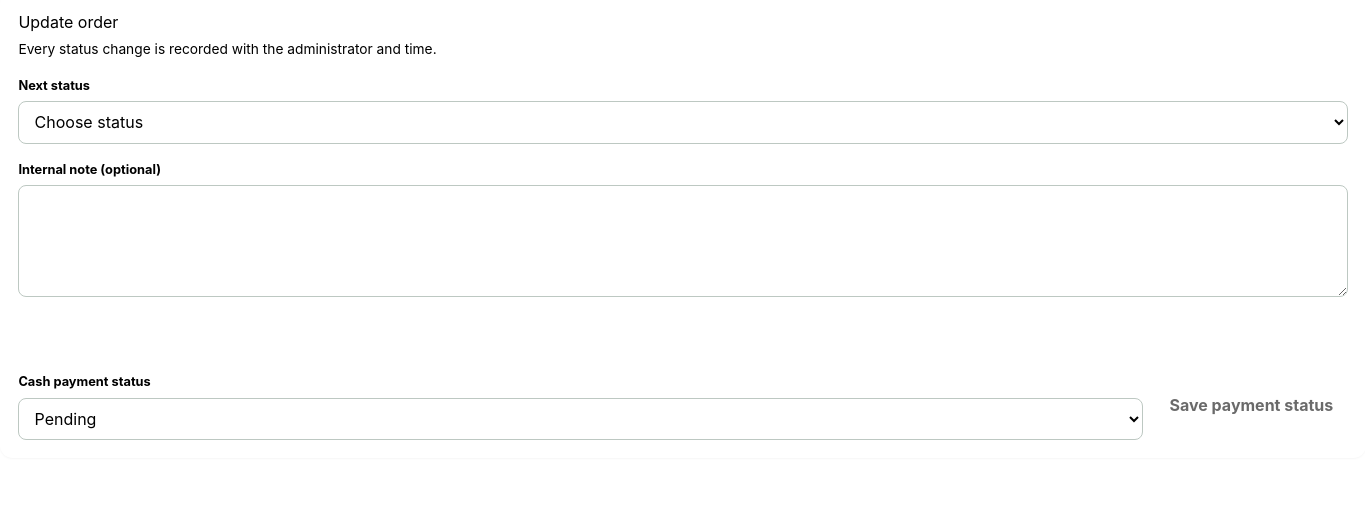
Test: OrderActions payment status › clears loading and leaves retry controls usable after failure
The image size is (1365, 525).
Select "Paid" in the dropdown labelled "Cash payment status": {"x": 581, "y": 419} [18,398,1143,440]
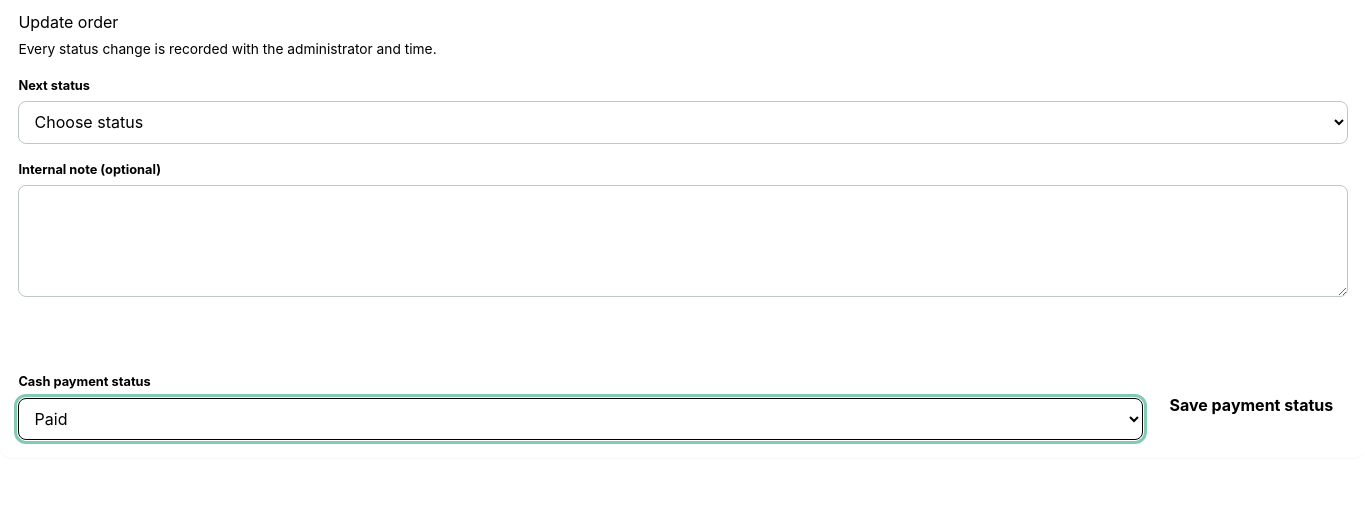
Click the button "Save payment status": {"x": 1251, "y": 406} [1155,385,1348,427]
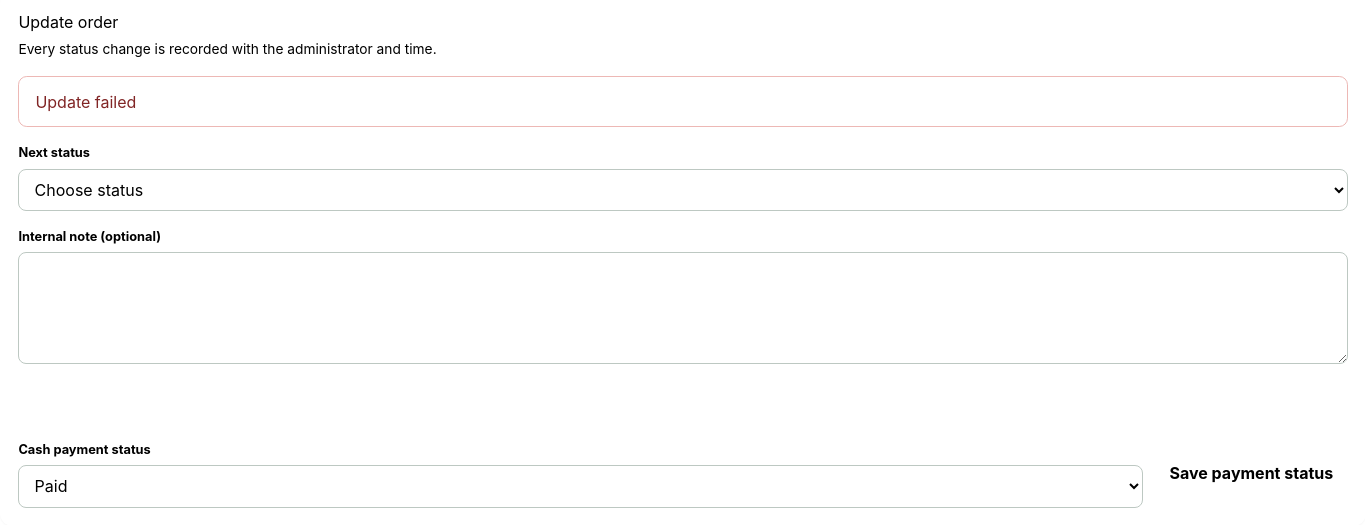
Expected: the dropdown labelled "Cash payment status" is enabled, [18,465,1143,508]
Expected: the button "Save payment status" is enabled, [1155,453,1348,495]
Expected: the message "Update failed" is shown, [18,76,1348,127]
